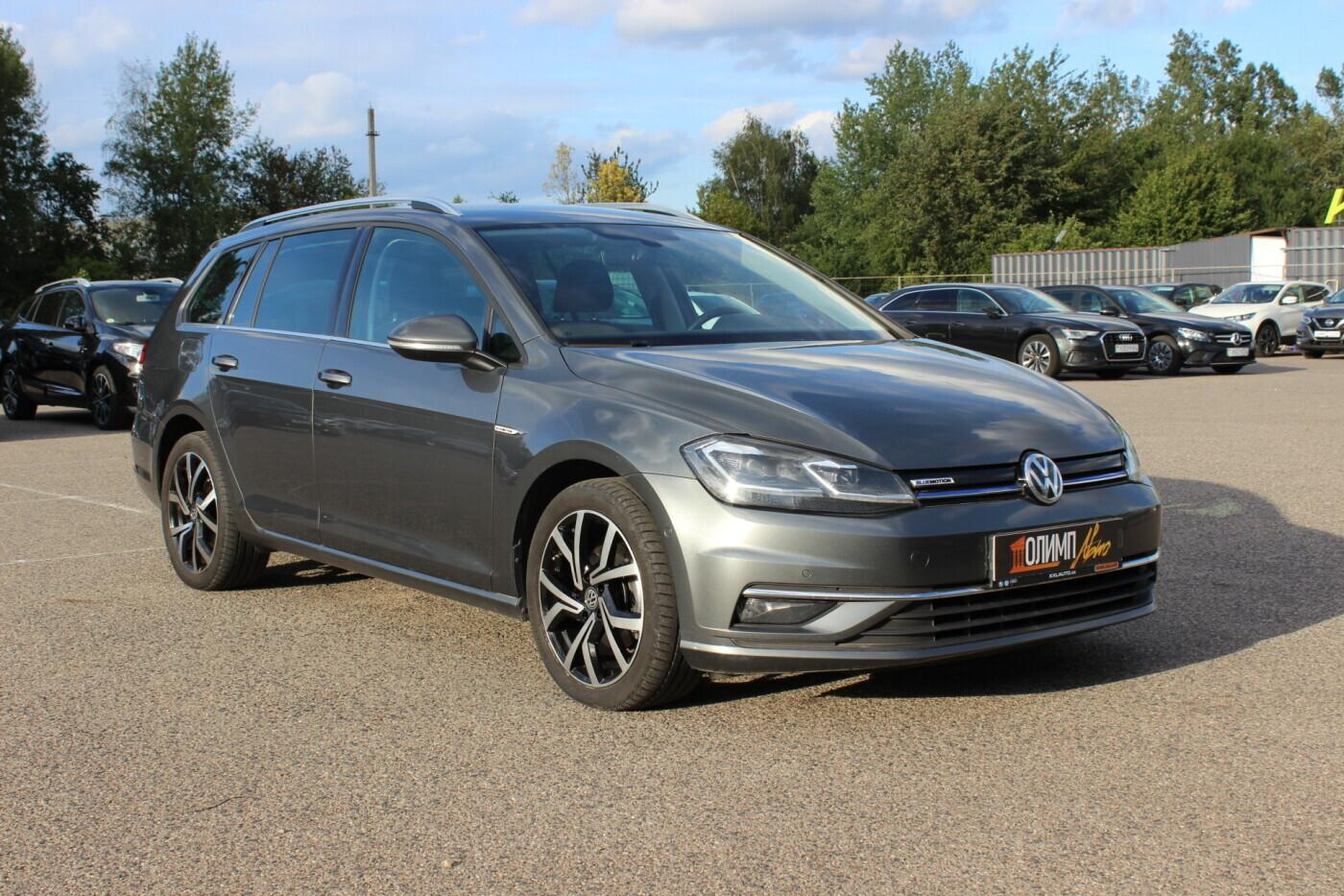Golf_2017-2021: (114, 192, 1175, 703)
